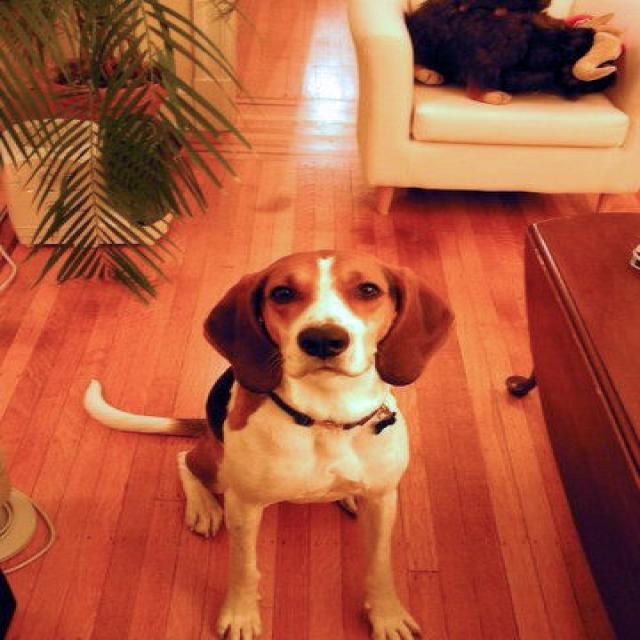sitting: (77, 249, 462, 640)
